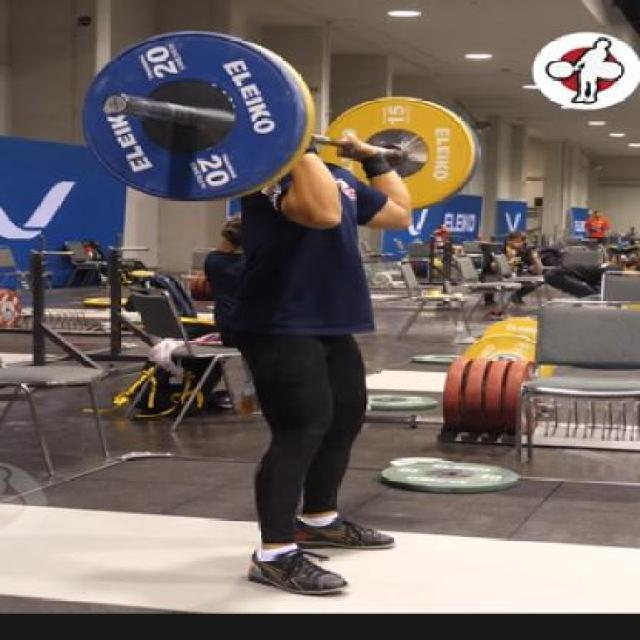barbell: (77, 24, 330, 215)
